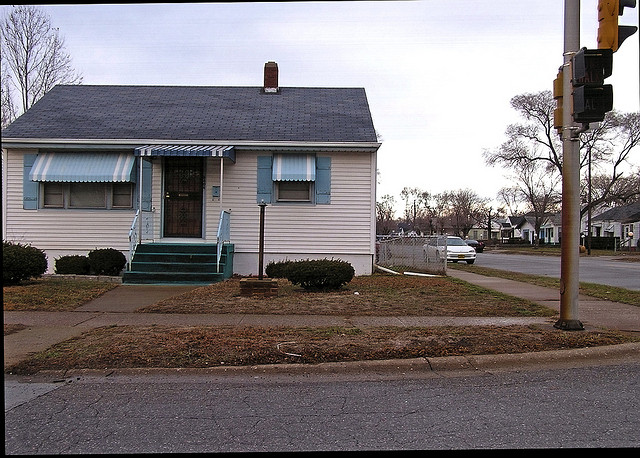Car: (429, 231, 476, 268)
Traffic light: (566, 51, 622, 129)
